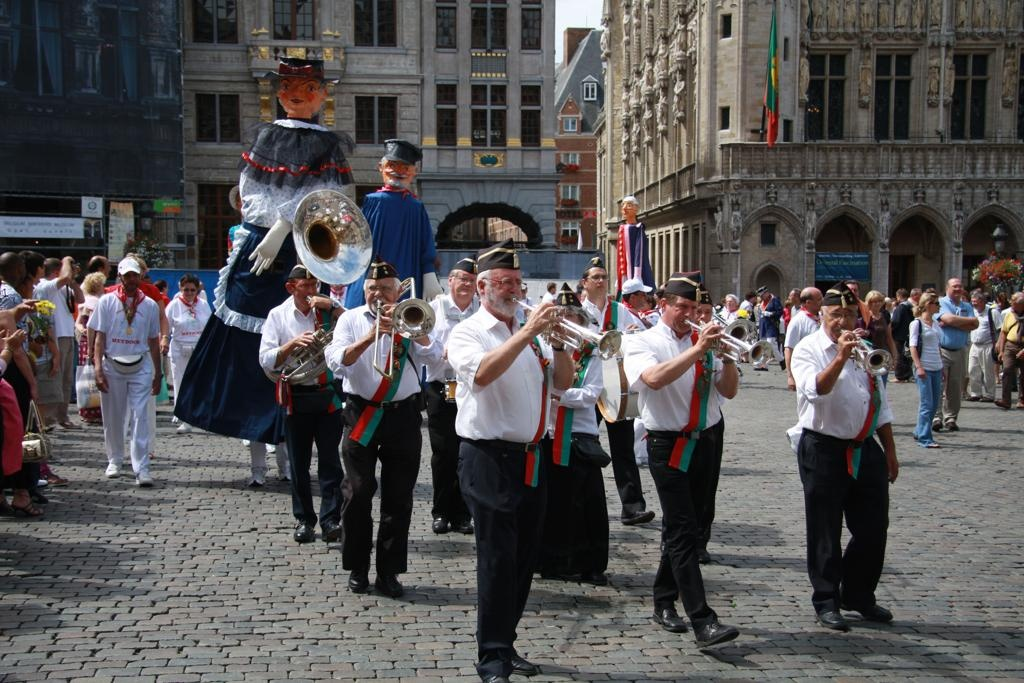human_face: (486, 267, 520, 313), (664, 292, 696, 332), (364, 276, 394, 312), (825, 306, 855, 338), (552, 305, 580, 339), (294, 276, 318, 306), (452, 268, 478, 294), (586, 268, 606, 294), (695, 300, 713, 326), (121, 267, 139, 289), (12, 256, 26, 282), (180, 282, 196, 300), (808, 290, 822, 310), (99, 257, 111, 279), (948, 280, 962, 298), (620, 200, 634, 217), (846, 283, 858, 301), (632, 290, 644, 308), (870, 294, 882, 310), (34, 260, 46, 276), (928, 298, 940, 312), (1009, 294, 1019, 310), (971, 296, 981, 308), (50, 267, 60, 279), (726, 297, 734, 309), (788, 292, 796, 302), (518, 286, 526, 296), (750, 294, 758, 304), (758, 292, 766, 300), (549, 285, 557, 293), (914, 291, 920, 301)
